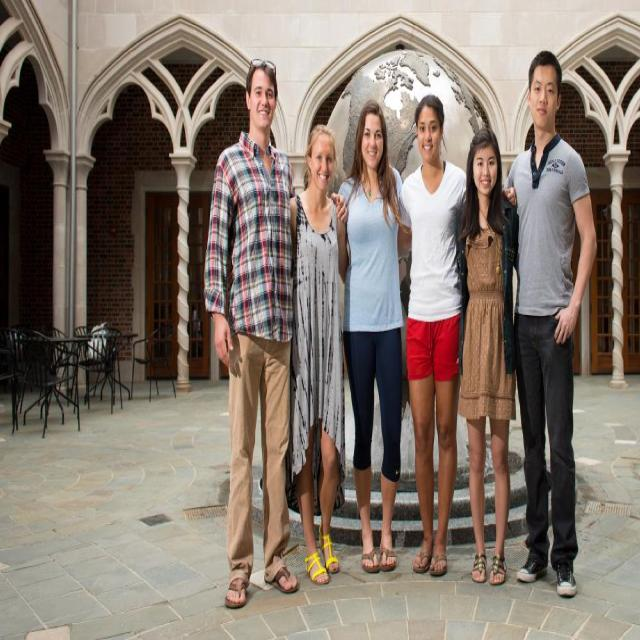body: (204, 56, 352, 610), (394, 93, 516, 580), (502, 48, 598, 599), (331, 97, 436, 570), (453, 124, 522, 586), (286, 123, 351, 584)
